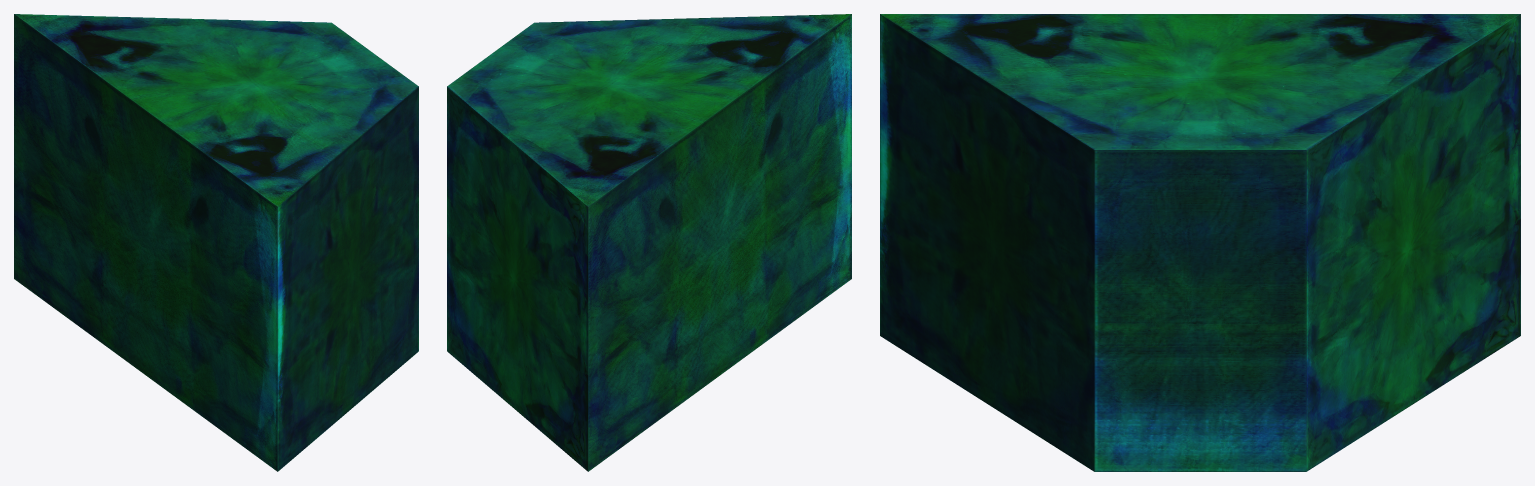
The model's file is quadri_left_cible_lvl_1.glb.
The picture shows the model from 3 angles, left to right: view 1: azimuth 30°, elevation 25°; view 2: azimuth 150°, elevation 25°; view 3: azimuth 270°, elevation 25°; orthographic projection. The views are drawn at different scales.
Visible parts, largest first — view 1: Mesh_0; view 2: Mesh_0; view 3: Mesh_0.
Part boxes in pixels (x1,y1,x2,y2): Mesh_0: [14, 14, 418, 471]; Mesh_0: [447, 14, 851, 471]; Mesh_0: [880, 14, 1520, 471].
Bounding box in the file's own units: 0.0778 × 0.0859 × 0.155.
1 material, 1 textured.
